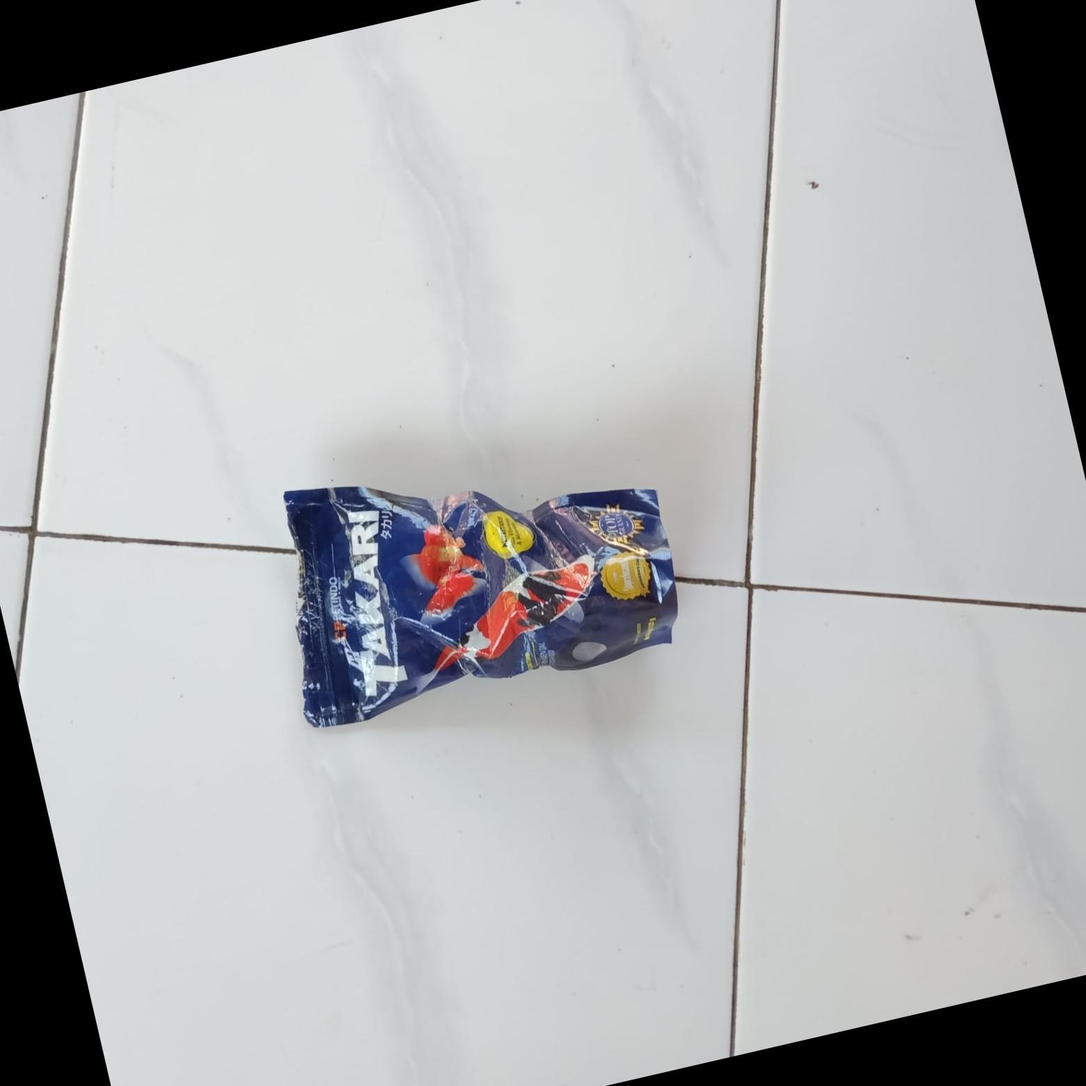Plastik: (253, 409, 692, 735)
